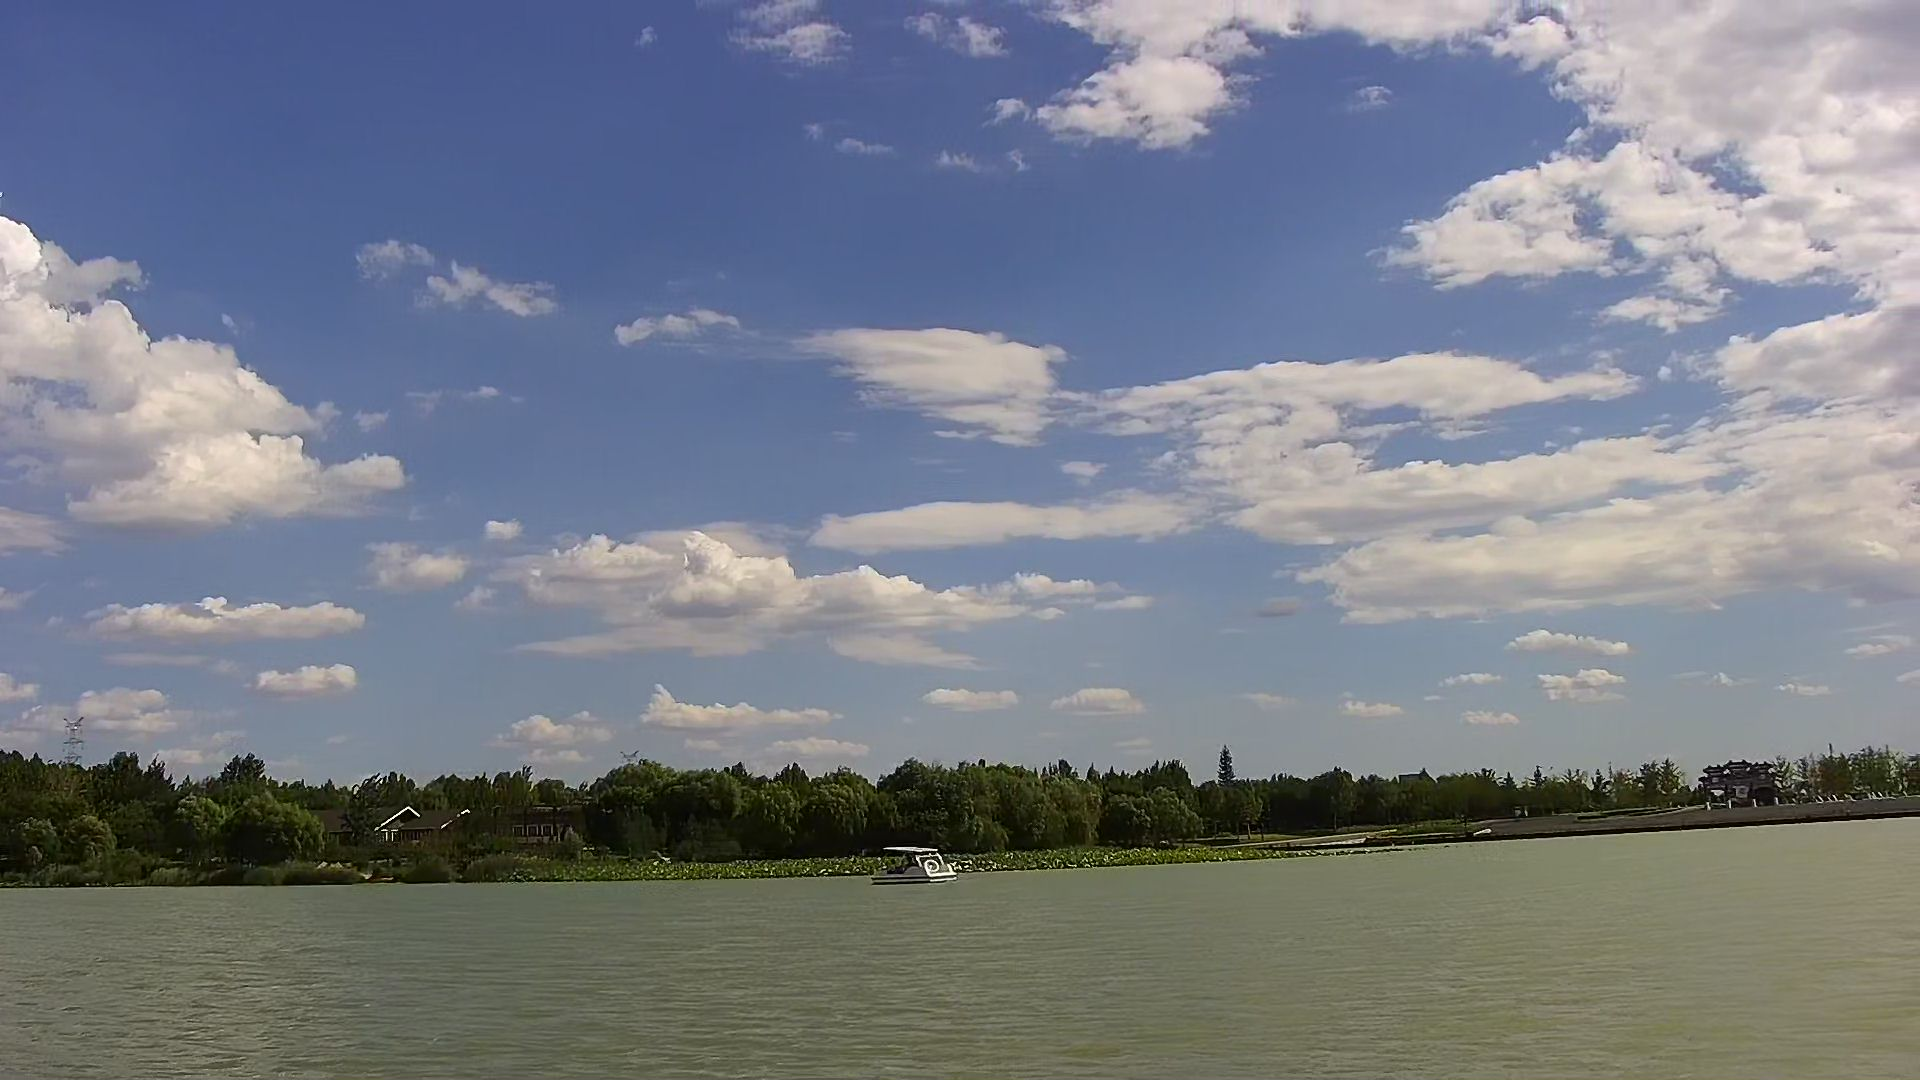boat: (869, 840, 967, 885)
